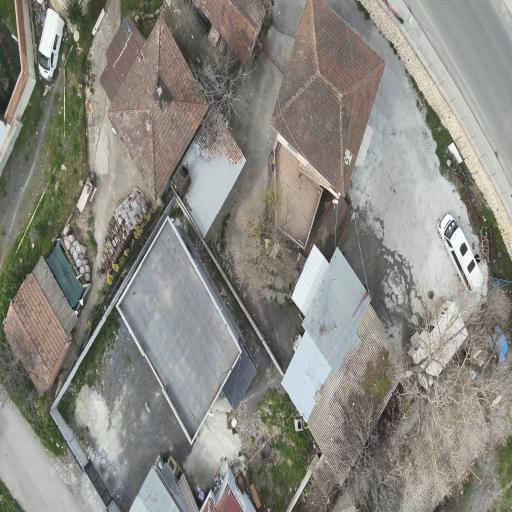car: (438, 214, 483, 291), (38, 9, 64, 80)
